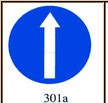Go_straight: (7, 5, 92, 85)
